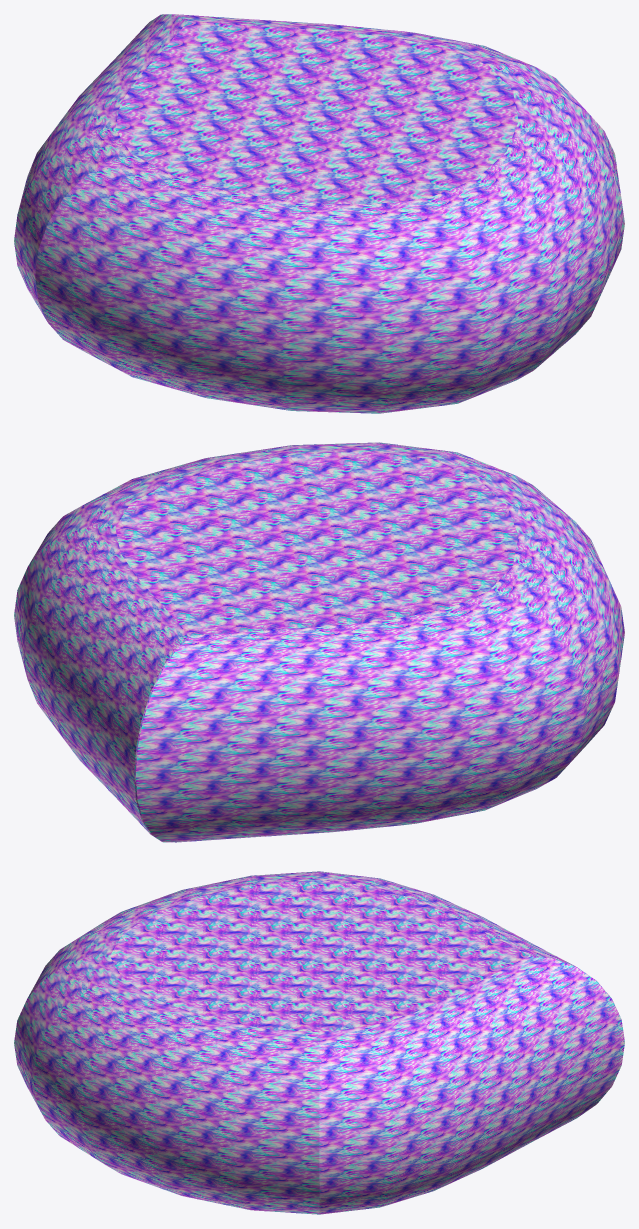
3 views of the same model, one above another, from view 1: azimuth 30°, elevation 25°; view 2: azimuth 150°, elevation 25°; view 3: azimuth 270°, elevation 25° (orthographic). The views are drawn at different scales.
Parts seen in each view (by area): view 1: yeet-SKP--Material11.002, yeet-SKP--Material12.002; view 2: yeet-SKP--Material11.002, yeet-SKP--Material12.002; view 3: yeet-SKP--Material11.002, yeet-SKP--Material12.002.
Boxes of the visible parts, <box> form: yeet-SKP--Material11.002: <box>14,14,624,413</box>; yeet-SKP--Material12.002: <box>115,21,518,204</box>; yeet-SKP--Material11.002: <box>14,442,624,842</box>; yeet-SKP--Material12.002: <box>115,451,518,635</box>; yeet-SKP--Material11.002: <box>14,871,624,1214</box>; yeet-SKP--Material12.002: <box>110,880,528,1032</box>.
Size of the model in its own units: 170283 by 59128 by 188438.
Materials: 37 (37 with a texture image).
